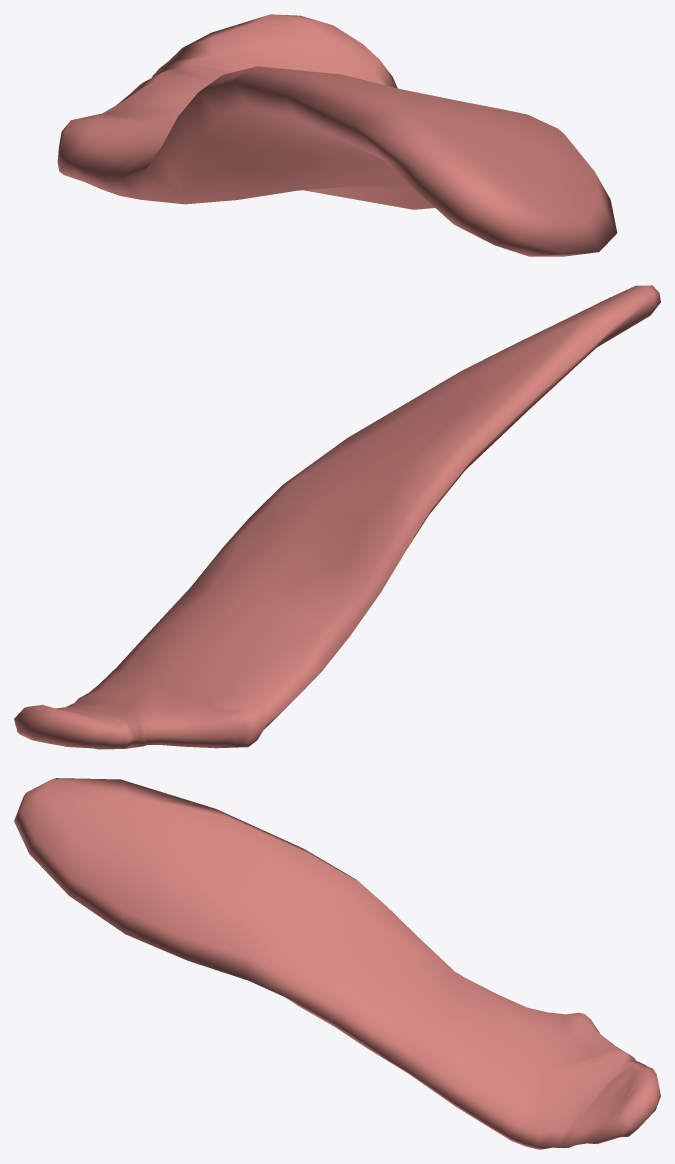
The picture shows the model from 3 angles, top to bottom: view 1: azimuth 30°, elevation 25°; view 2: azimuth 150°, elevation 25°; view 3: azimuth 270°, elevation 25°; orthographic projection. The views are drawn at different scales.
Visible parts, largest first — view 1: ZA_3c4aac81ca81e18f; view 2: ZA_3c4aac81ca81e18f; view 3: ZA_3c4aac81ca81e18f.
Boxes of the visible parts, box(x1,y1,x2,y2) form: ZA_3c4aac81ca81e18f: box(57, 14, 617, 256); ZA_3c4aac81ca81e18f: box(14, 285, 660, 749); ZA_3c4aac81ca81e18f: box(14, 778, 660, 1149).
Size of the model in its own units: 0.00476 by 0.0043 by 0.00991.
